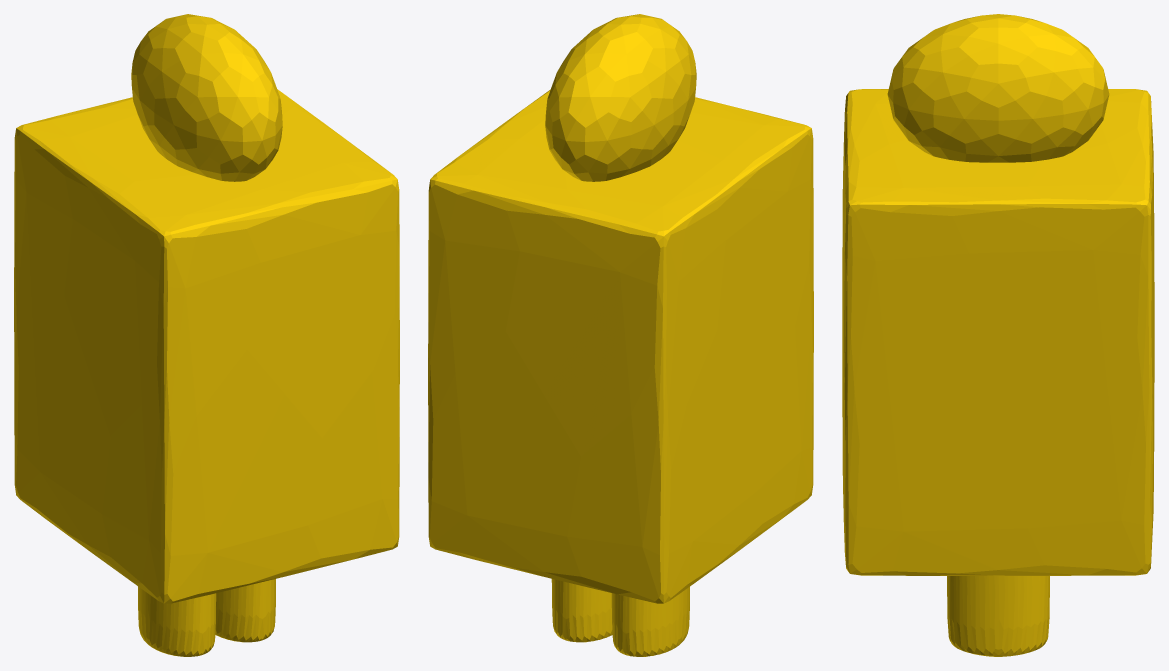
Rendered from hero7.glb.
3 views of the same model, side by side, from view 1: azimuth 30°, elevation 25°; view 2: azimuth 150°, elevation 25°; view 3: azimuth 270°, elevation 25° (orthographic).
Parts seen in each view (by area): view 1: hero7; view 2: hero7; view 3: hero7.
Boxes of the visible parts, x1,y1,x2,y2 form: hero7: (14, 14, 399, 656); hero7: (428, 14, 813, 656); hero7: (842, 14, 1154, 656).
Bounding box in the file's own units: 0.7995 × 1.95 × 0.8989.
